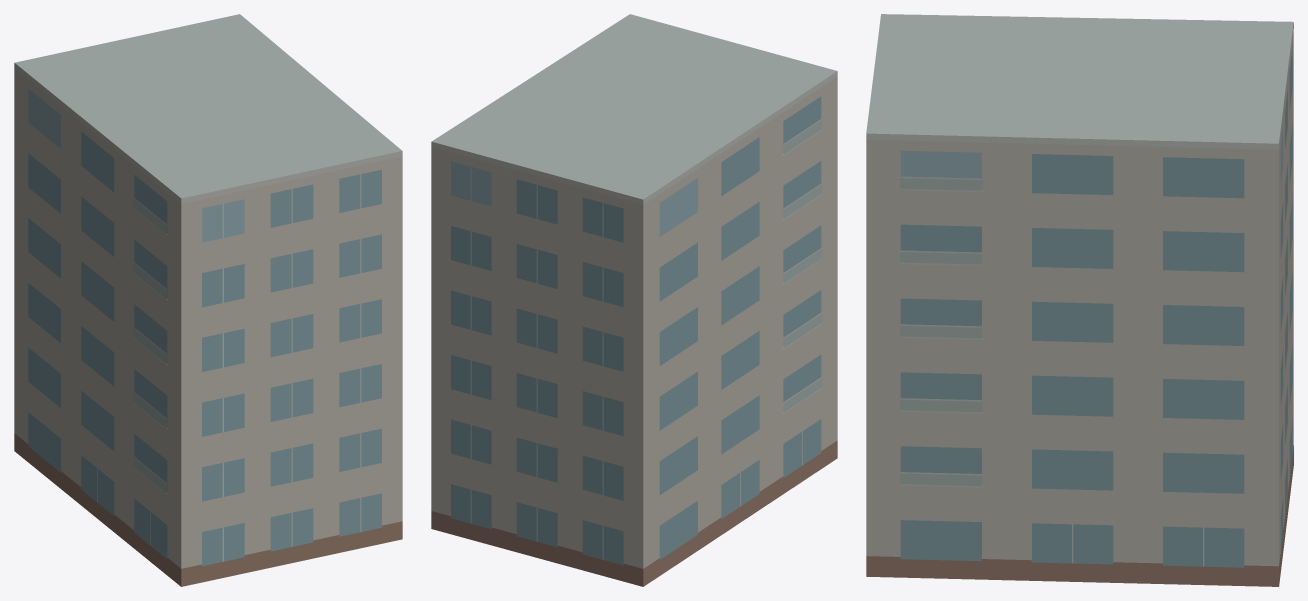
The model's file is survey-upis-32765333.glb.
3 views of the same model, side by side, from view 1: azimuth 30°, elevation 25°; view 2: azimuth 150°, elevation 25°; view 3: azimuth 270°, elevation 25° (orthographic). The views are drawn at different scales.
Visible parts, largest first — view 1: survey-upis-32765333.tmp; view 2: survey-upis-32765333.tmp; view 3: survey-upis-32765333.tmp.
Boxes of the visible parts, left/top/right/bottom form: survey-upis-32765333.tmp: left=14, top=14, right=402, bottom=586; survey-upis-32765333.tmp: left=431, top=14, right=837, bottom=586; survey-upis-32765333.tmp: left=866, top=14, right=1293, bottom=586.
Size of the model in its own units: 11.18 by 17.8 by 15.58.
